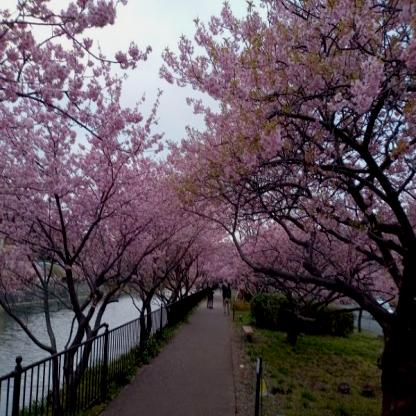KawazuSakura: (0, 0, 416, 317)
